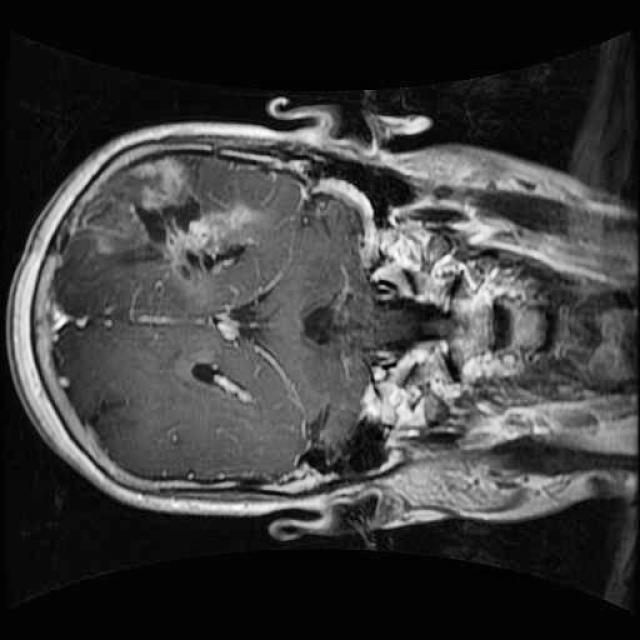Tumor: (72, 139, 278, 305)
